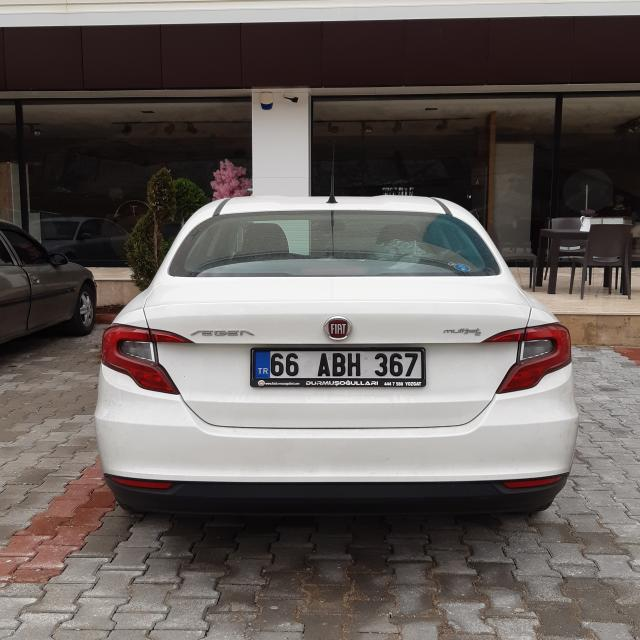license_plate: (250, 350, 425, 382)
